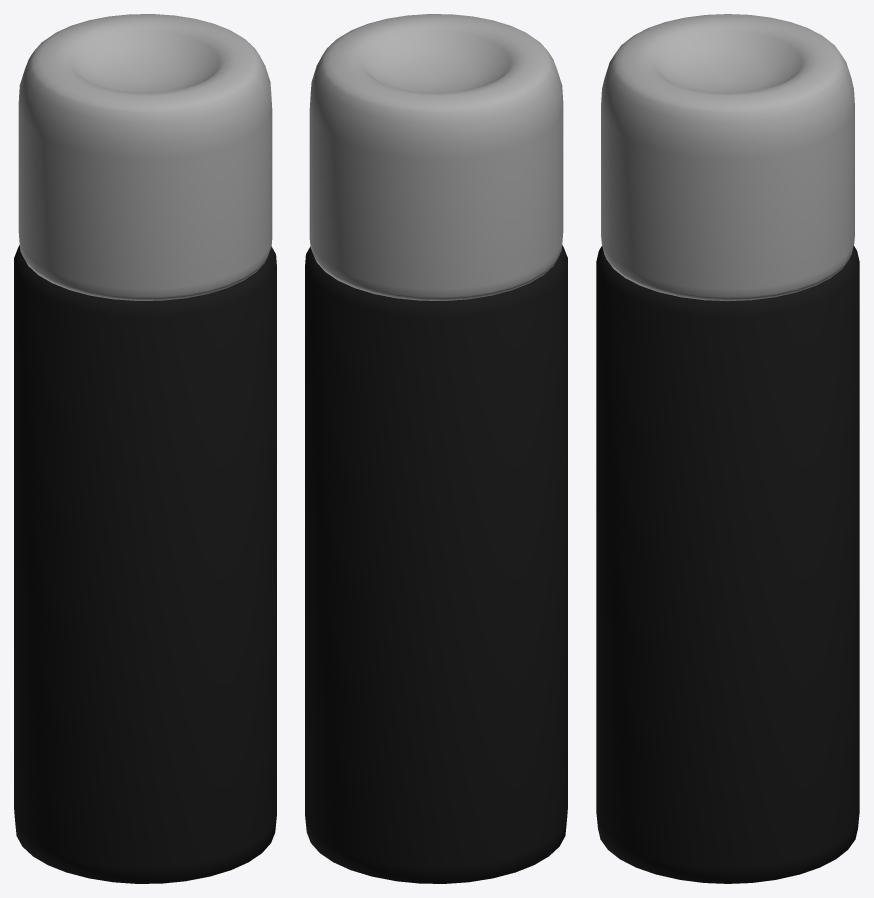
The model's file is Termo.fbx.
3 views of the same model, side by side, from view 1: azimuth 30°, elevation 25°; view 2: azimuth 150°, elevation 25°; view 3: azimuth 270°, elevation 25° (orthographic).
Parts seen in each view (by area): view 1: Termo; view 2: Termo; view 3: Termo.
Part boxes in pixels (x1,y1,x2,y2): Termo: [14, 14, 276, 883]; Termo: [305, 14, 567, 883]; Termo: [596, 14, 859, 883].
Bounding box in the file's own units: 83.9 × 272 × 83.9.
Materials: 1 (1 with a texture image).
